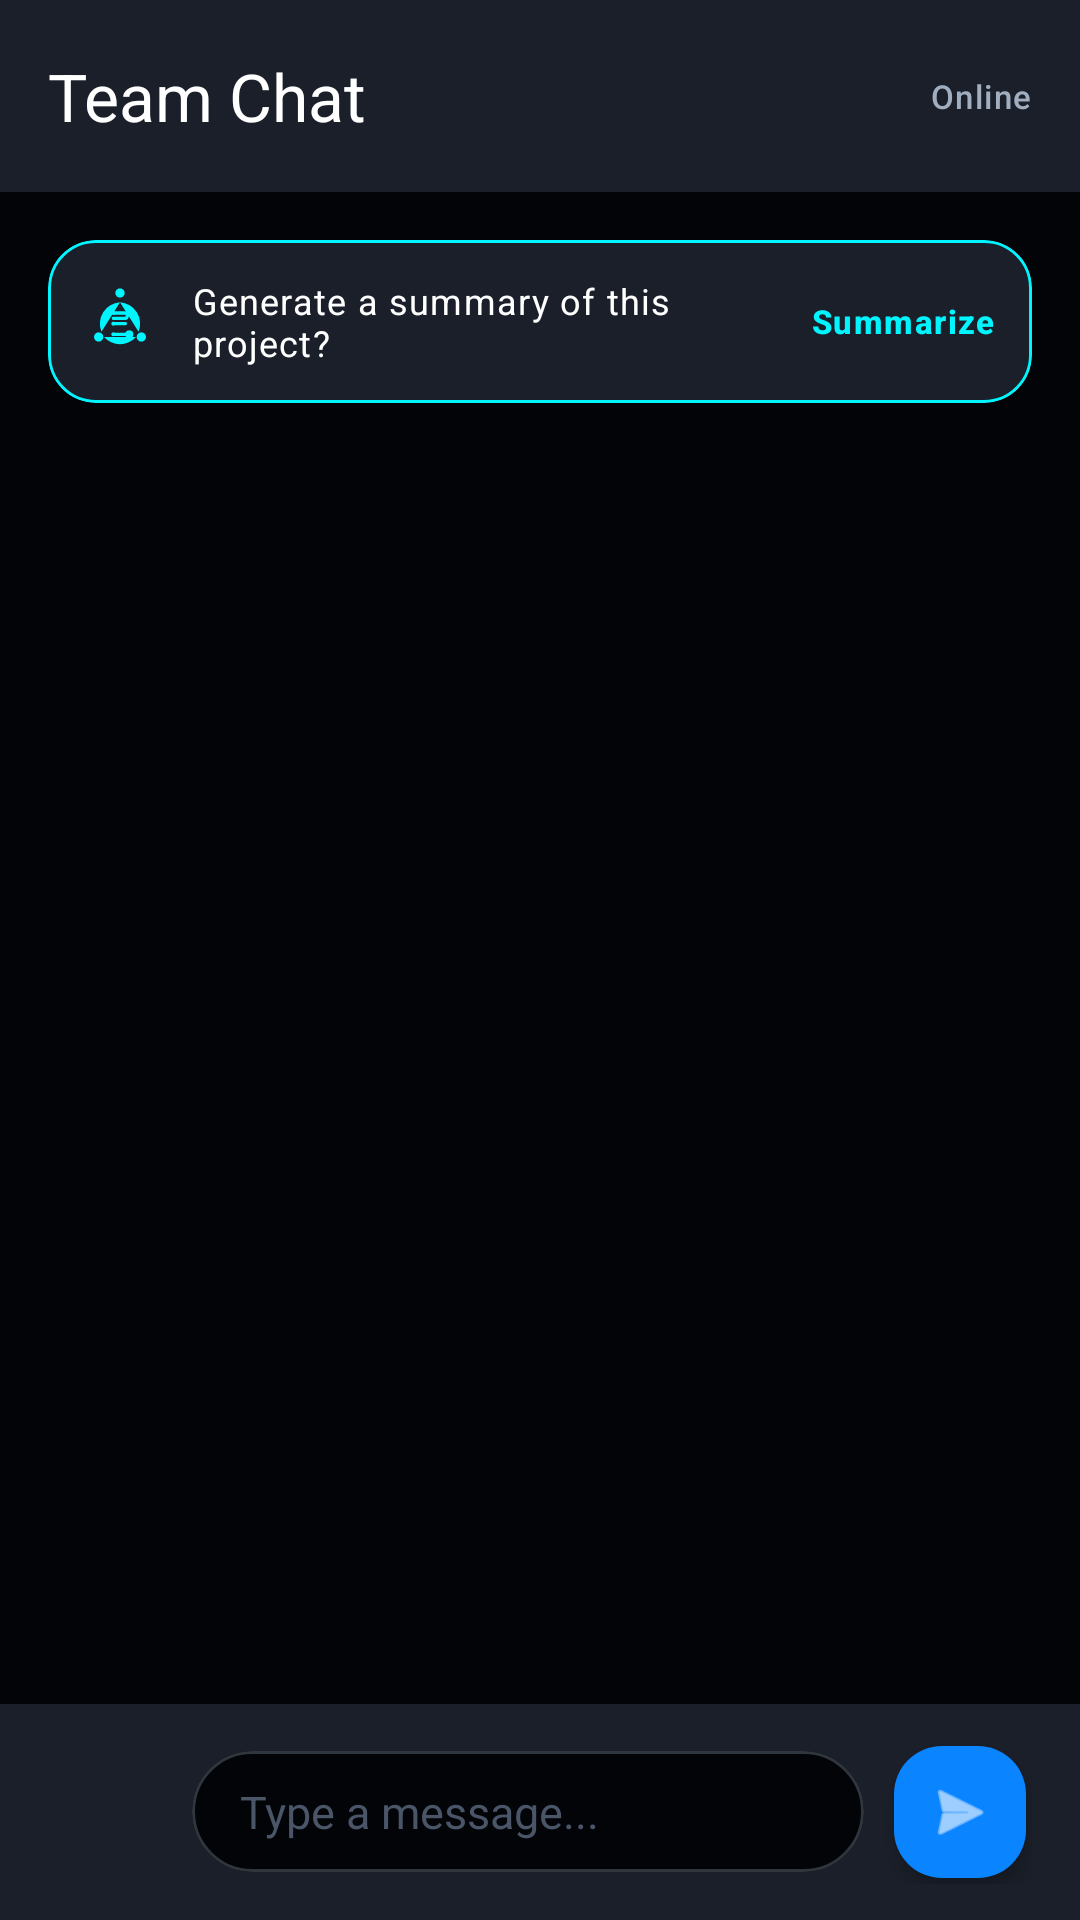

Where to tap for icons on this 1080×1920 app screen, as point (x, y):
send: point (960, 1812)
